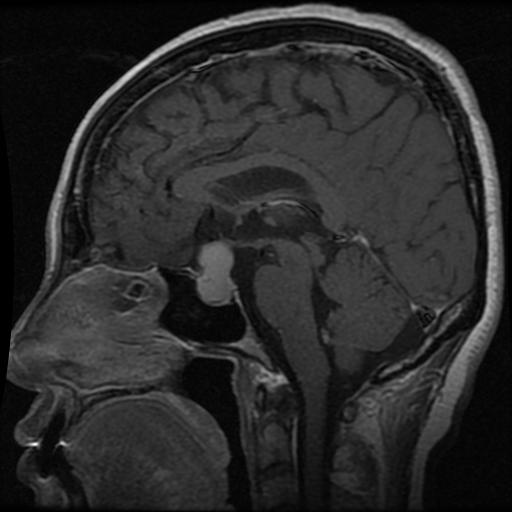Pituirity_tumour: (195, 243, 233, 301)
